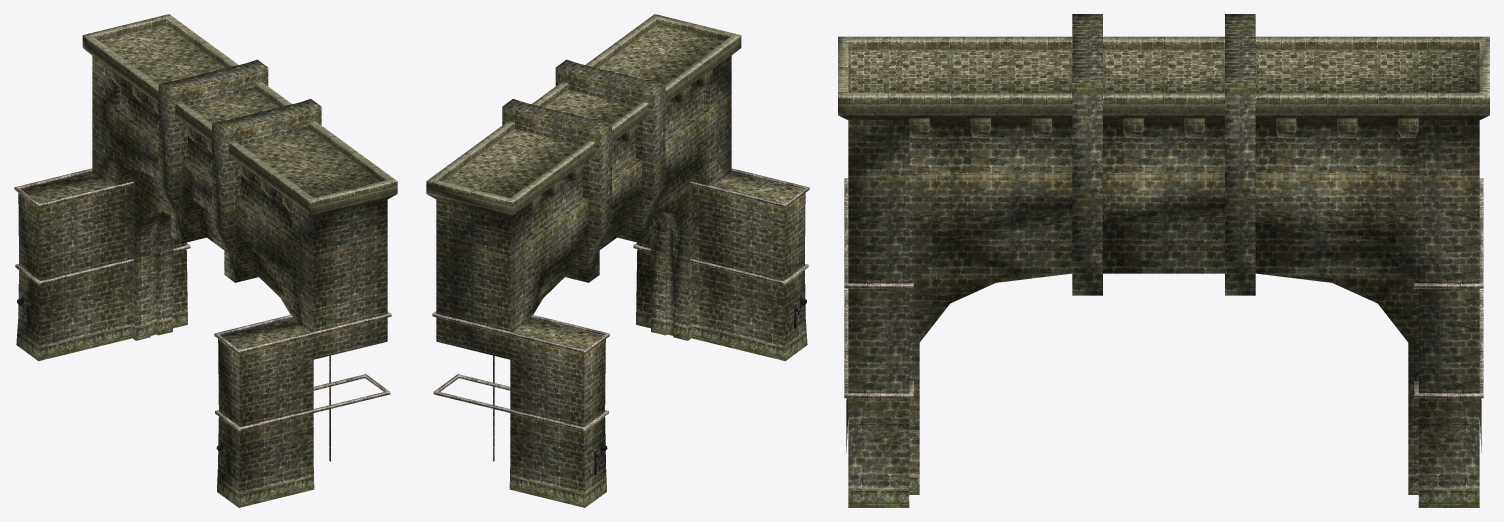
File: OZ_30_kn_gate01C.glb
The picture shows the model from 3 angles, left to right: view 1: azimuth 30°, elevation 25°; view 2: azimuth 150°, elevation 25°; view 3: azimuth 270°, elevation 25°; orthographic projection. The views are drawn at different scales.
Visible parts, largest first — view 1: OM_30_kn_gate01C; view 2: OM_30_kn_gate01C; view 3: OM_30_kn_gate01C.
Boxes of the visible parts, x1,y1,x2,y2 form: OM_30_kn_gate01C: (14, 14, 397, 507); OM_30_kn_gate01C: (426, 14, 809, 507); OM_30_kn_gate01C: (838, 14, 1489, 507).
Bounding box in the file's own units: 13.99 × 23.5 × 32.
Materials: 4 (4 with a texture image).
